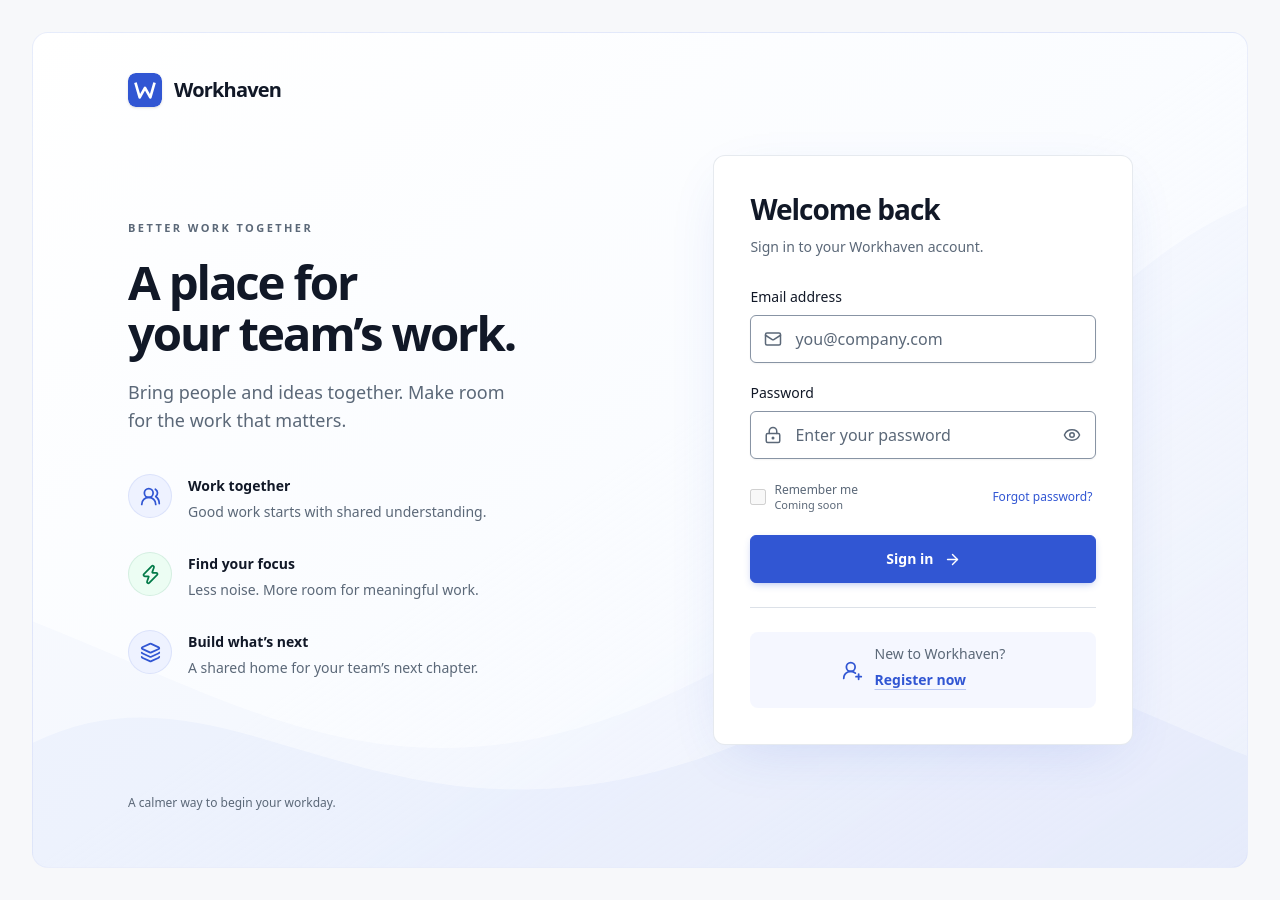
Test: browser session › explains upcoming controls without navigating or submitting credentials
expect the checkbox labelled "Remember me Coming soon" is disabled: met, box [750,489,766,505]
expect the checkbox labelled "Remember me Coming soon" is not checked: met, box [750,489,766,505]
Step 1. Click the button "Forgot password?" → (1042, 497), box [988,475,1096,519]
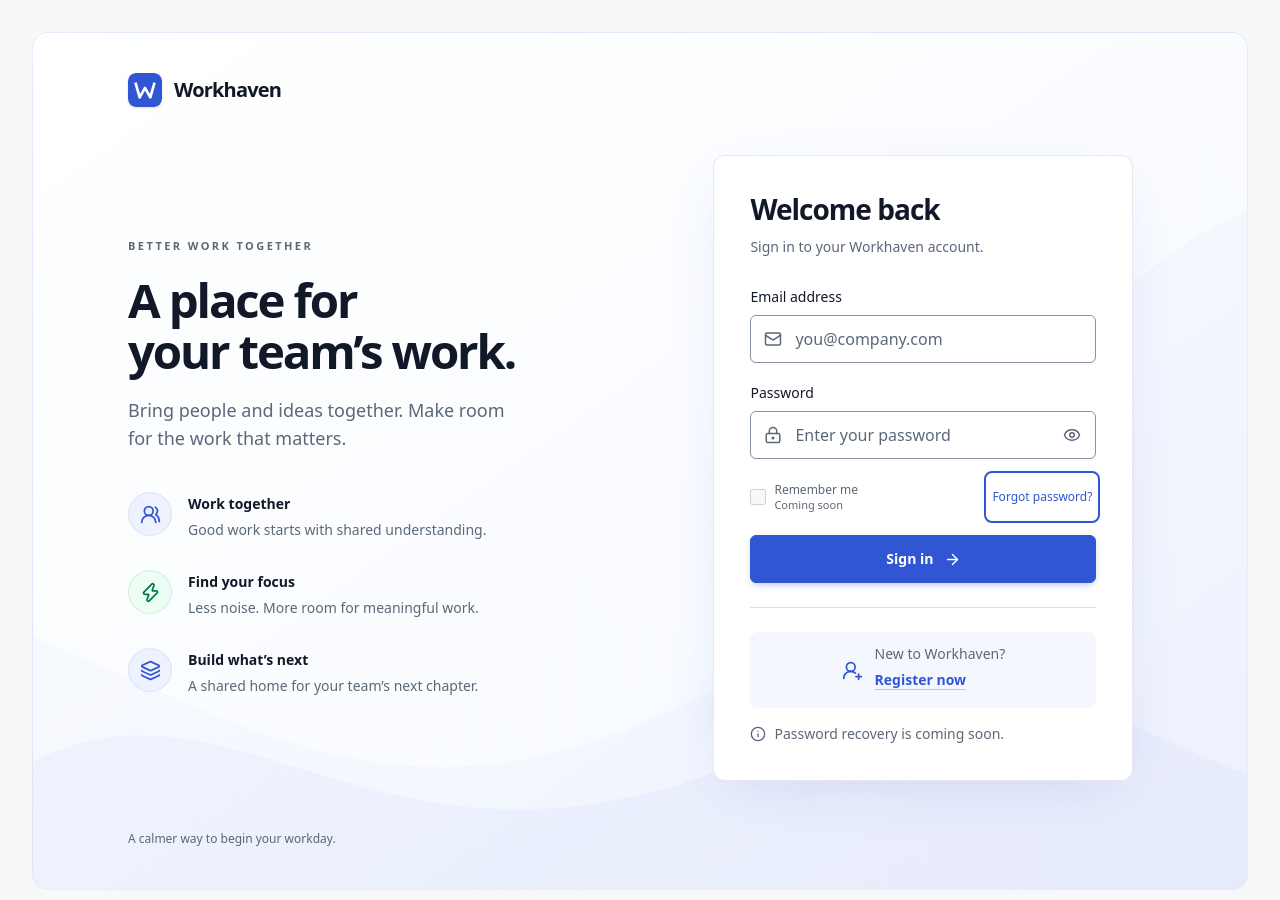
expect the text "Password recovery is coming soon." is shown: met, box [750,724,1004,743]
Step 2. Click the button "Register now" → (920, 680), box [874,664,966,696]
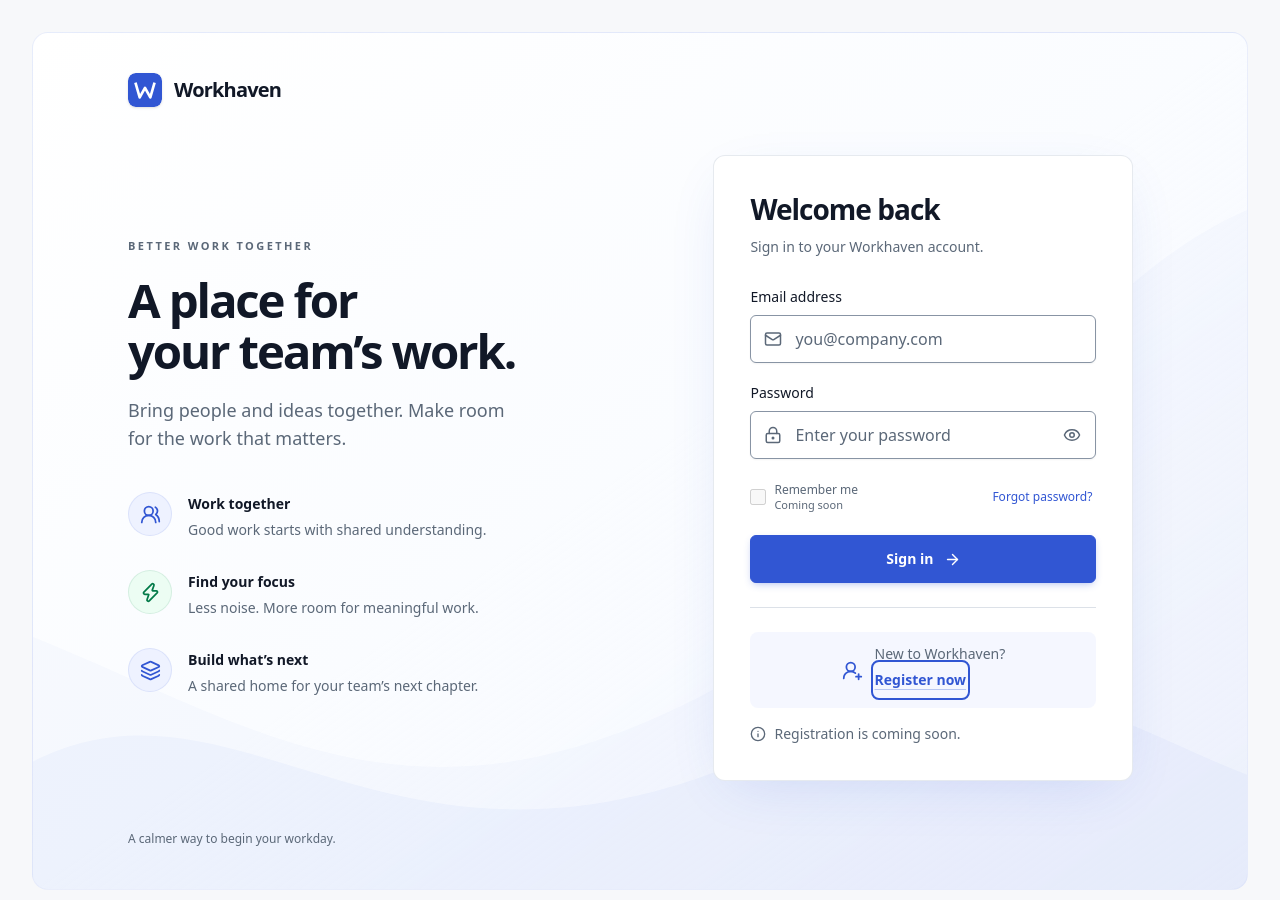
expect the text "Password recovery is coming soon." is shown: met, box [750,724,961,743]
expect the text "Password recovery is coming soon." is gone: met
